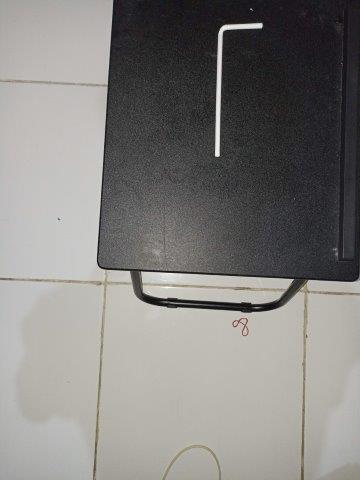karet: (232, 317, 249, 336)
sedotan: (215, 22, 262, 158)
